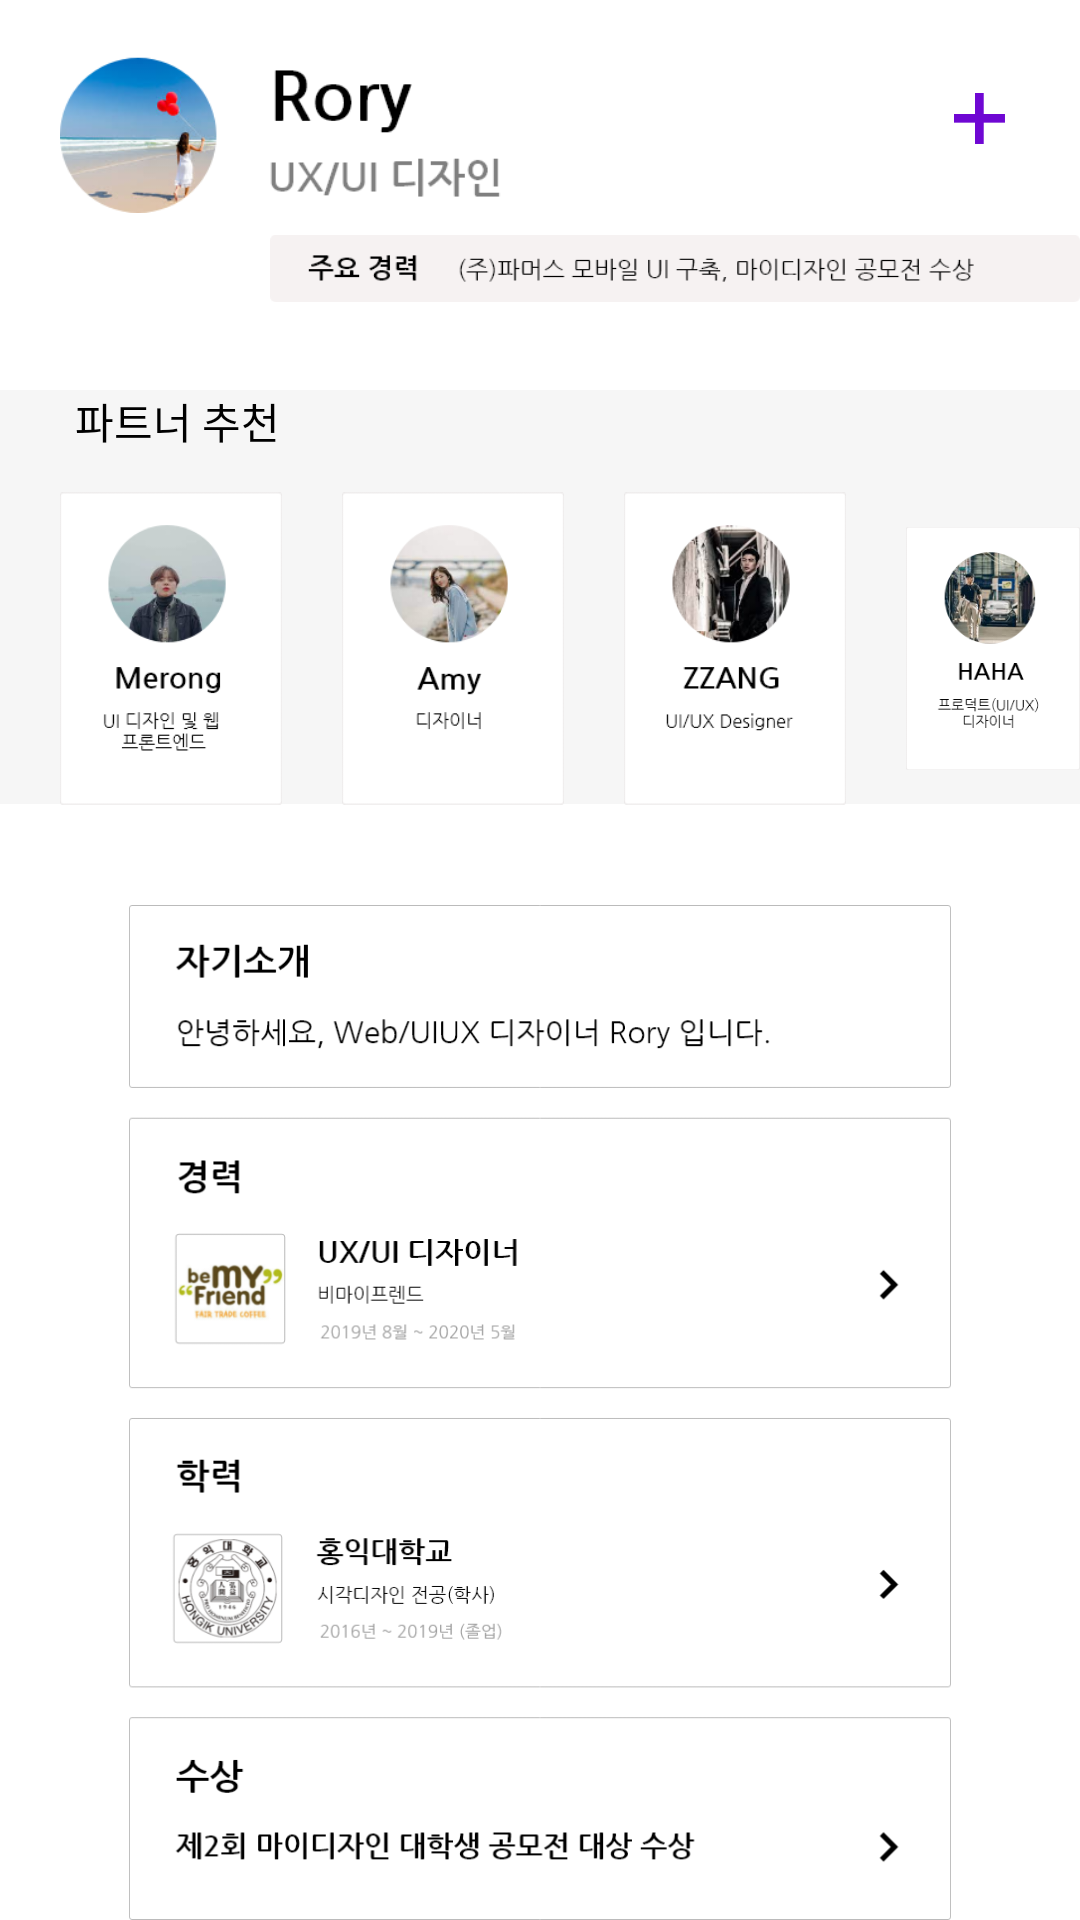

Locate icon controls on the screen. Image size 1080×1920, boxes as (x1, y1, x2, y2).
plus: (954, 93, 1005, 144)
